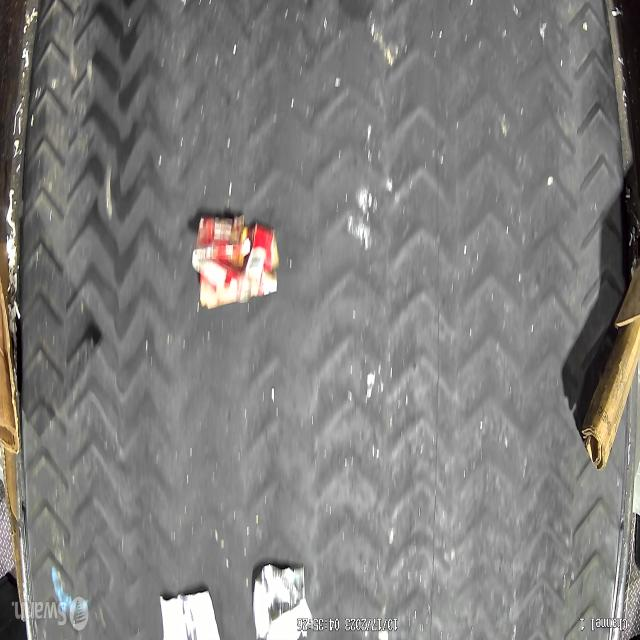can: (252, 564, 306, 639)
